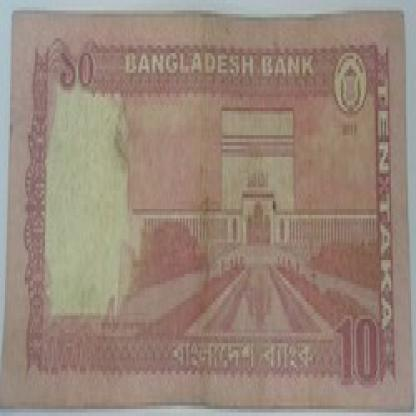Ten Taka: (328, 309, 379, 388), (48, 45, 103, 108)
